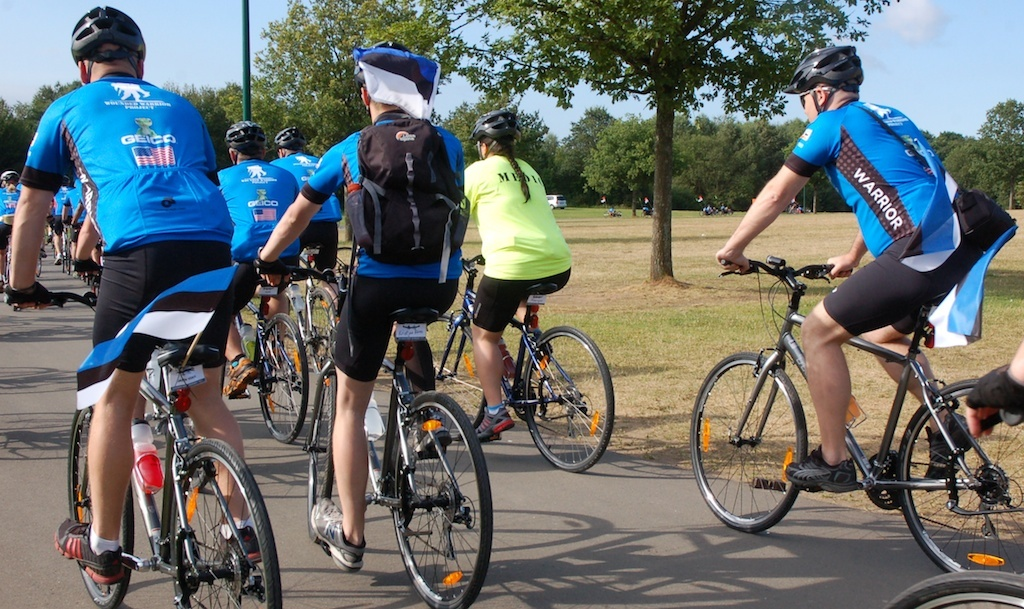Bike_away: (687, 250, 1018, 570), (13, 281, 297, 608), (253, 251, 503, 605)
